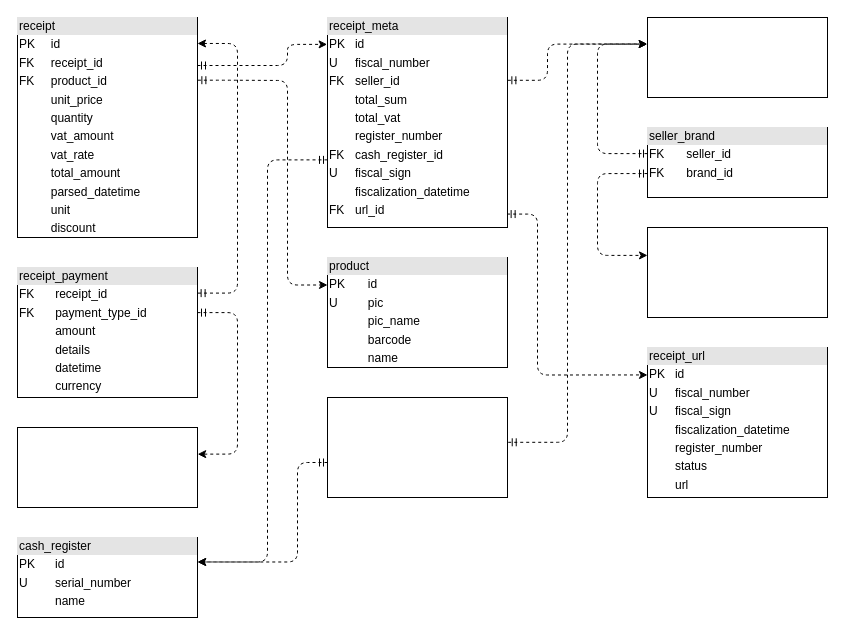
This 845x635 diagram has some shape labels left out. The centre of each missing label's shape, as x and y in pixels:
"brand PK id name normalized_name" belongs at [737,272].
"payment_type PK id U code name" belongs at [107,467].
"seller PK id U tin name" belongs at [737,57].
"store PK id FK seller_id FK cash_register_id address" belongs at [417,447].
